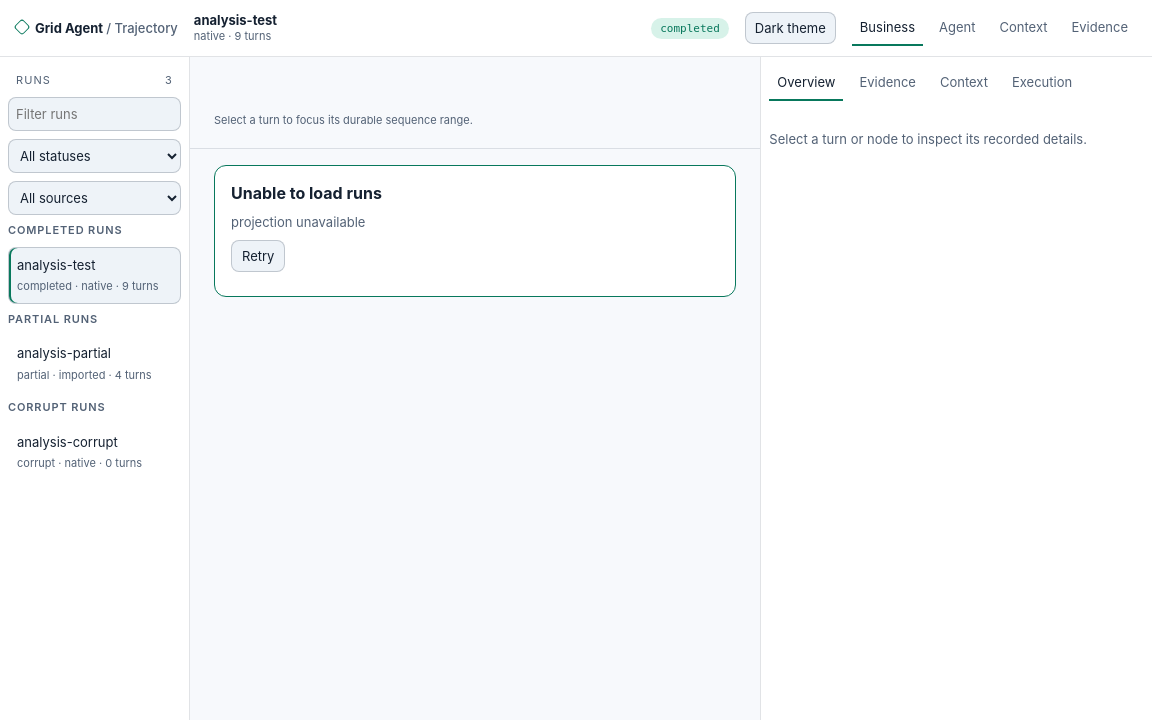
Scenario: App shell › retries a failed business projection request
expect the message with test id "state-network-error" shows "projection unavailable": met, box [231,214,365,230]
Step 1. Click the button "Retry" → (258, 256), box [231,240,285,272]
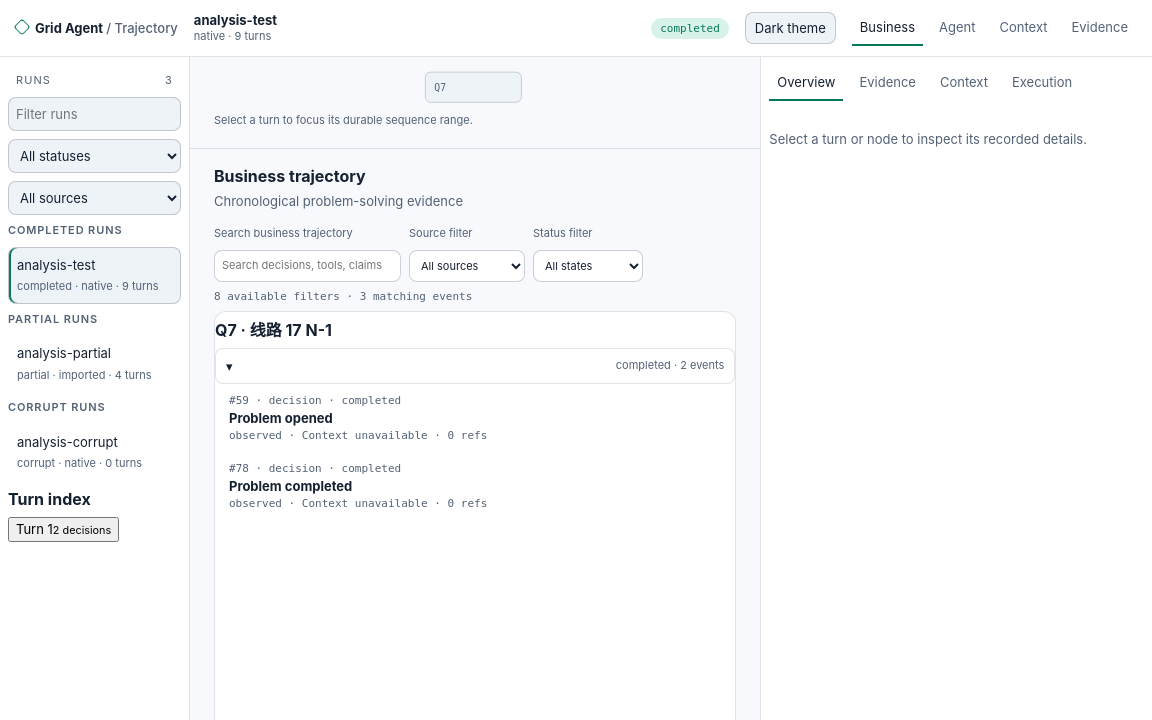
expect the heading "Q7 · 线路 17 N-1" is shown: met, box [215,320,332,340]
